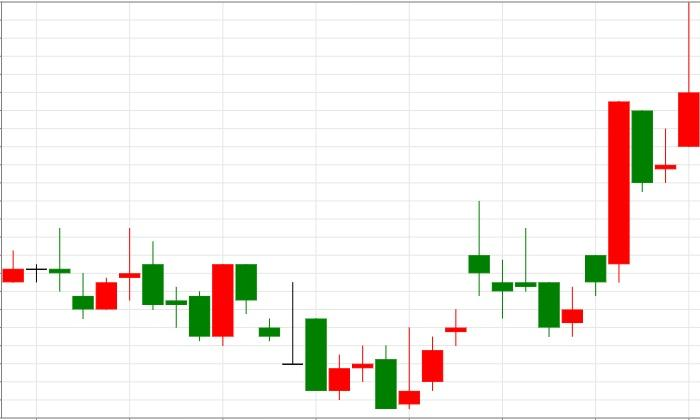bullish_engulfing_rise: (119, 228, 234, 346)
